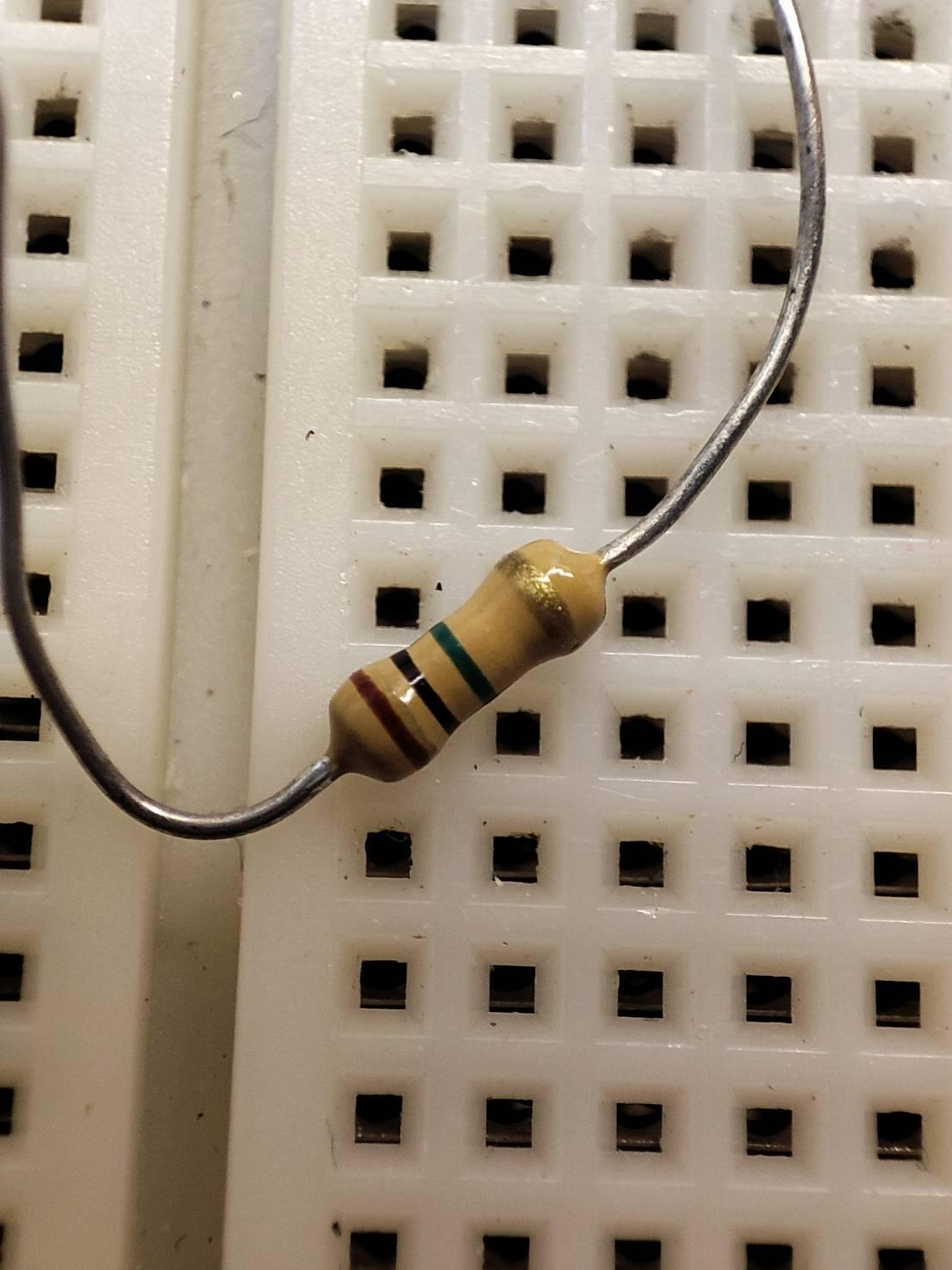resistor: (321, 540, 610, 776)
